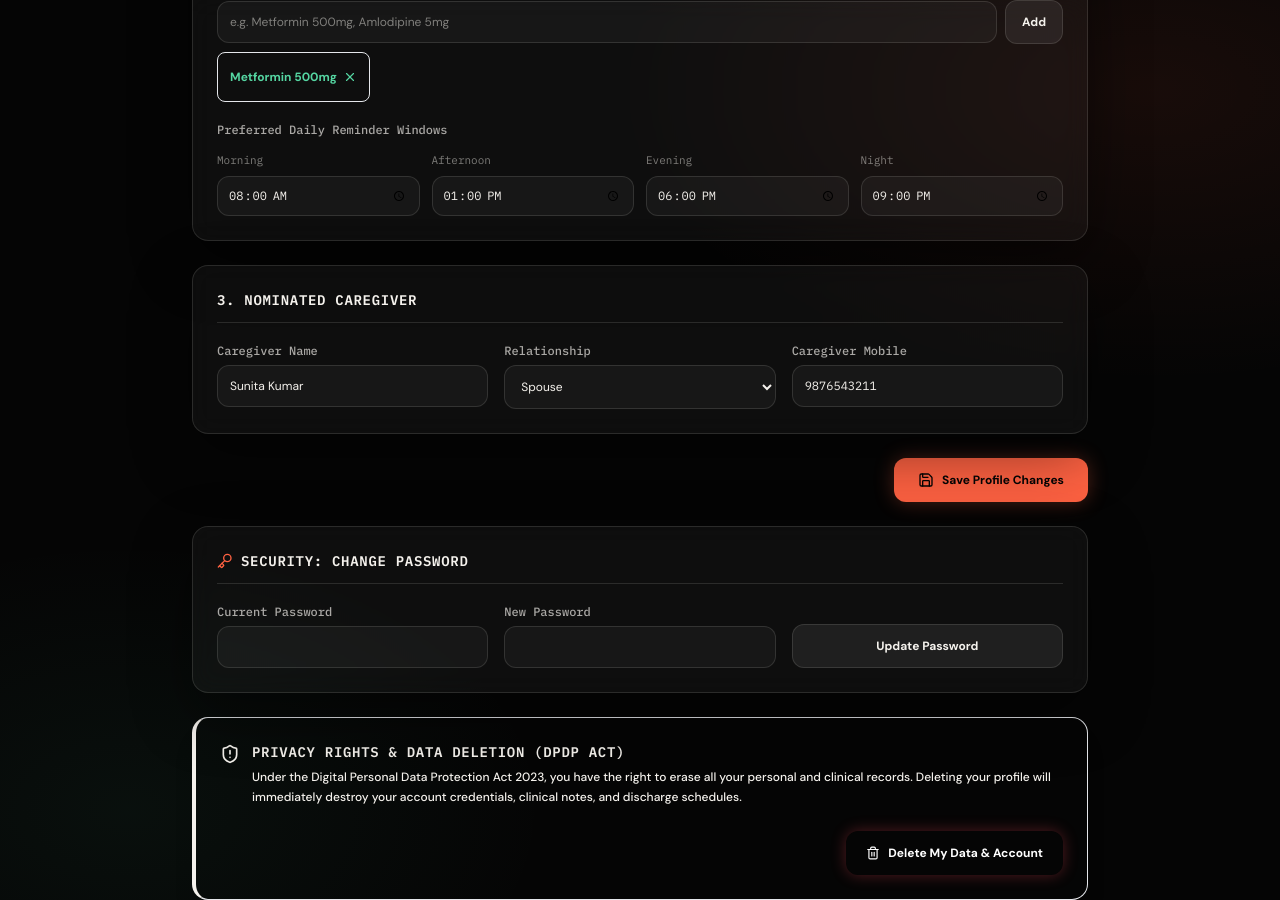
Care Bridge Auth and Notification Tests › PatientProfileView renders profile fields and DPDP Act deletion section
(page scrolled)
Click the button "Delete My Data & Account" at x=955, y=853, box [846,831,1063,875]
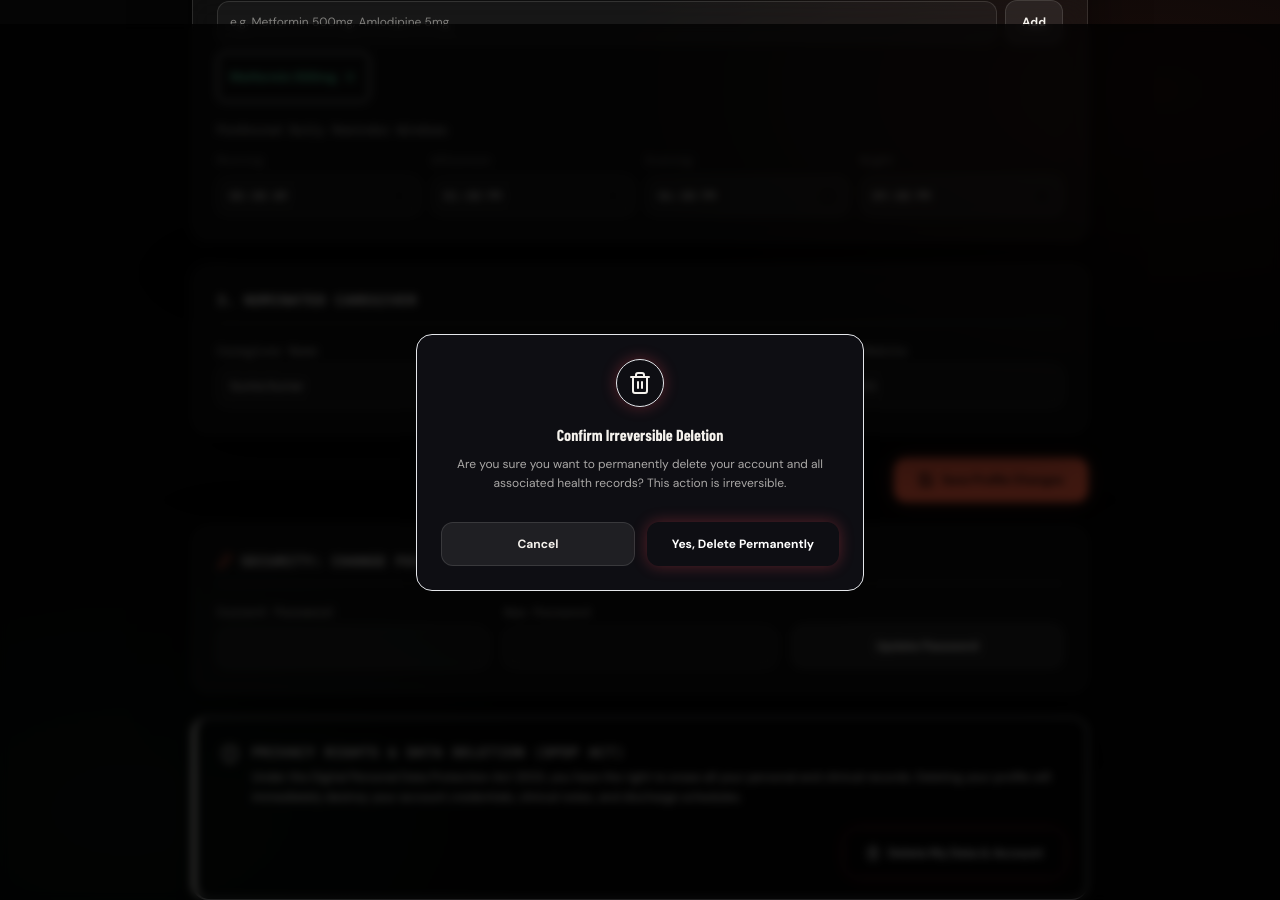
Now the text "Confirm Irreversible Deletion" is shown, box [557,424,723,444]
Now the text "Yes, Delete Permanently" is shown, box [647,522,839,566]
